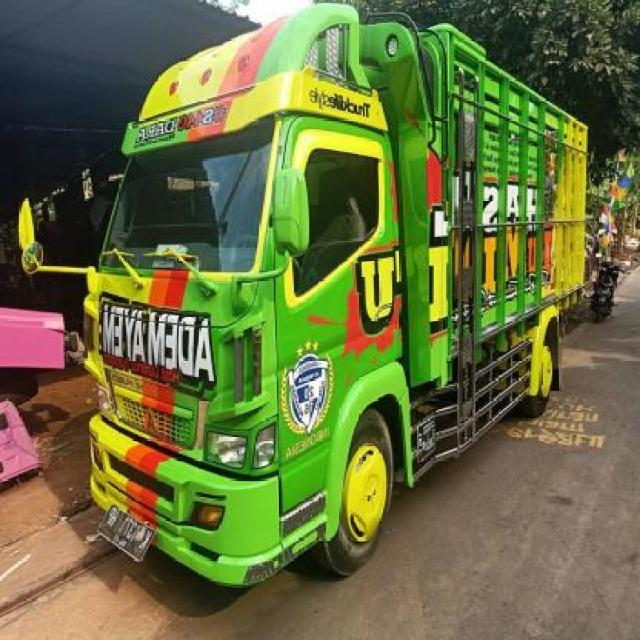truck: (20, 4, 589, 593)
